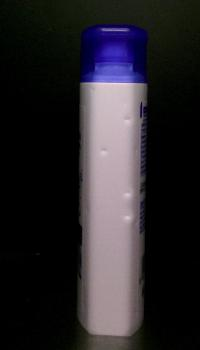dent_marginal: (117, 111, 136, 132), (122, 187, 130, 226), (98, 140, 112, 158)
